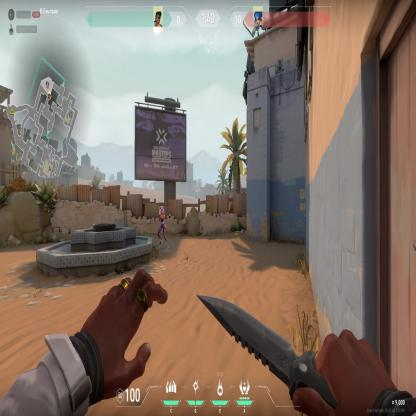enemy: (156, 204, 170, 249)
